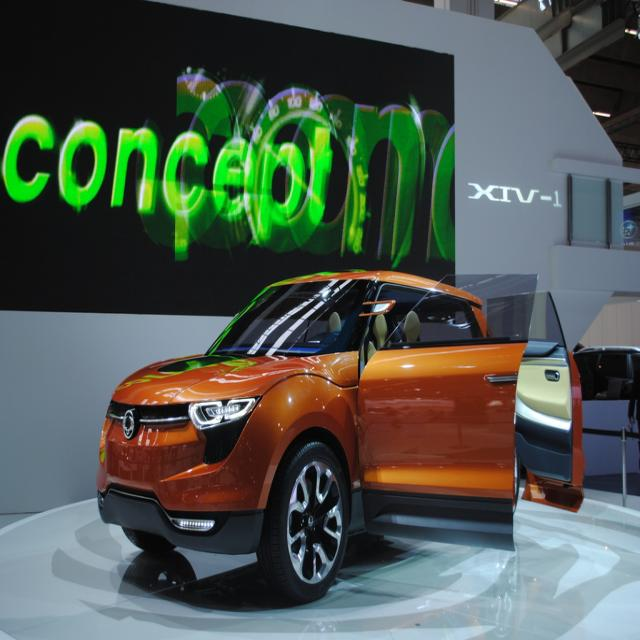car: (91, 261, 541, 604)
